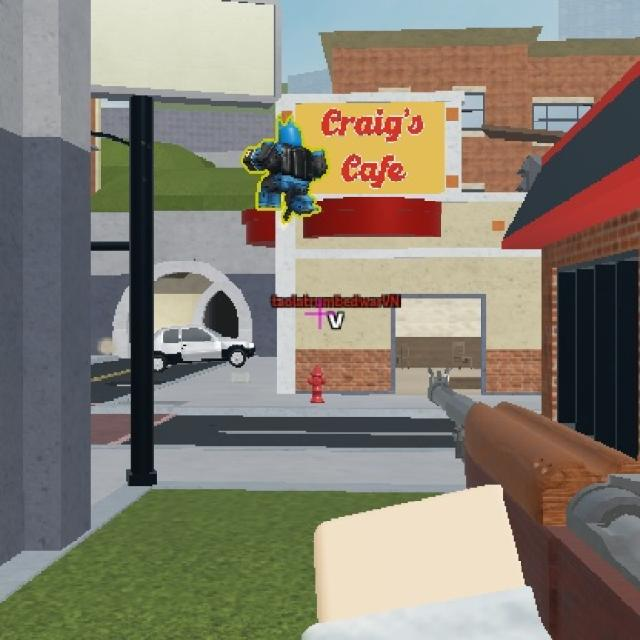player: (236, 111, 332, 225)
